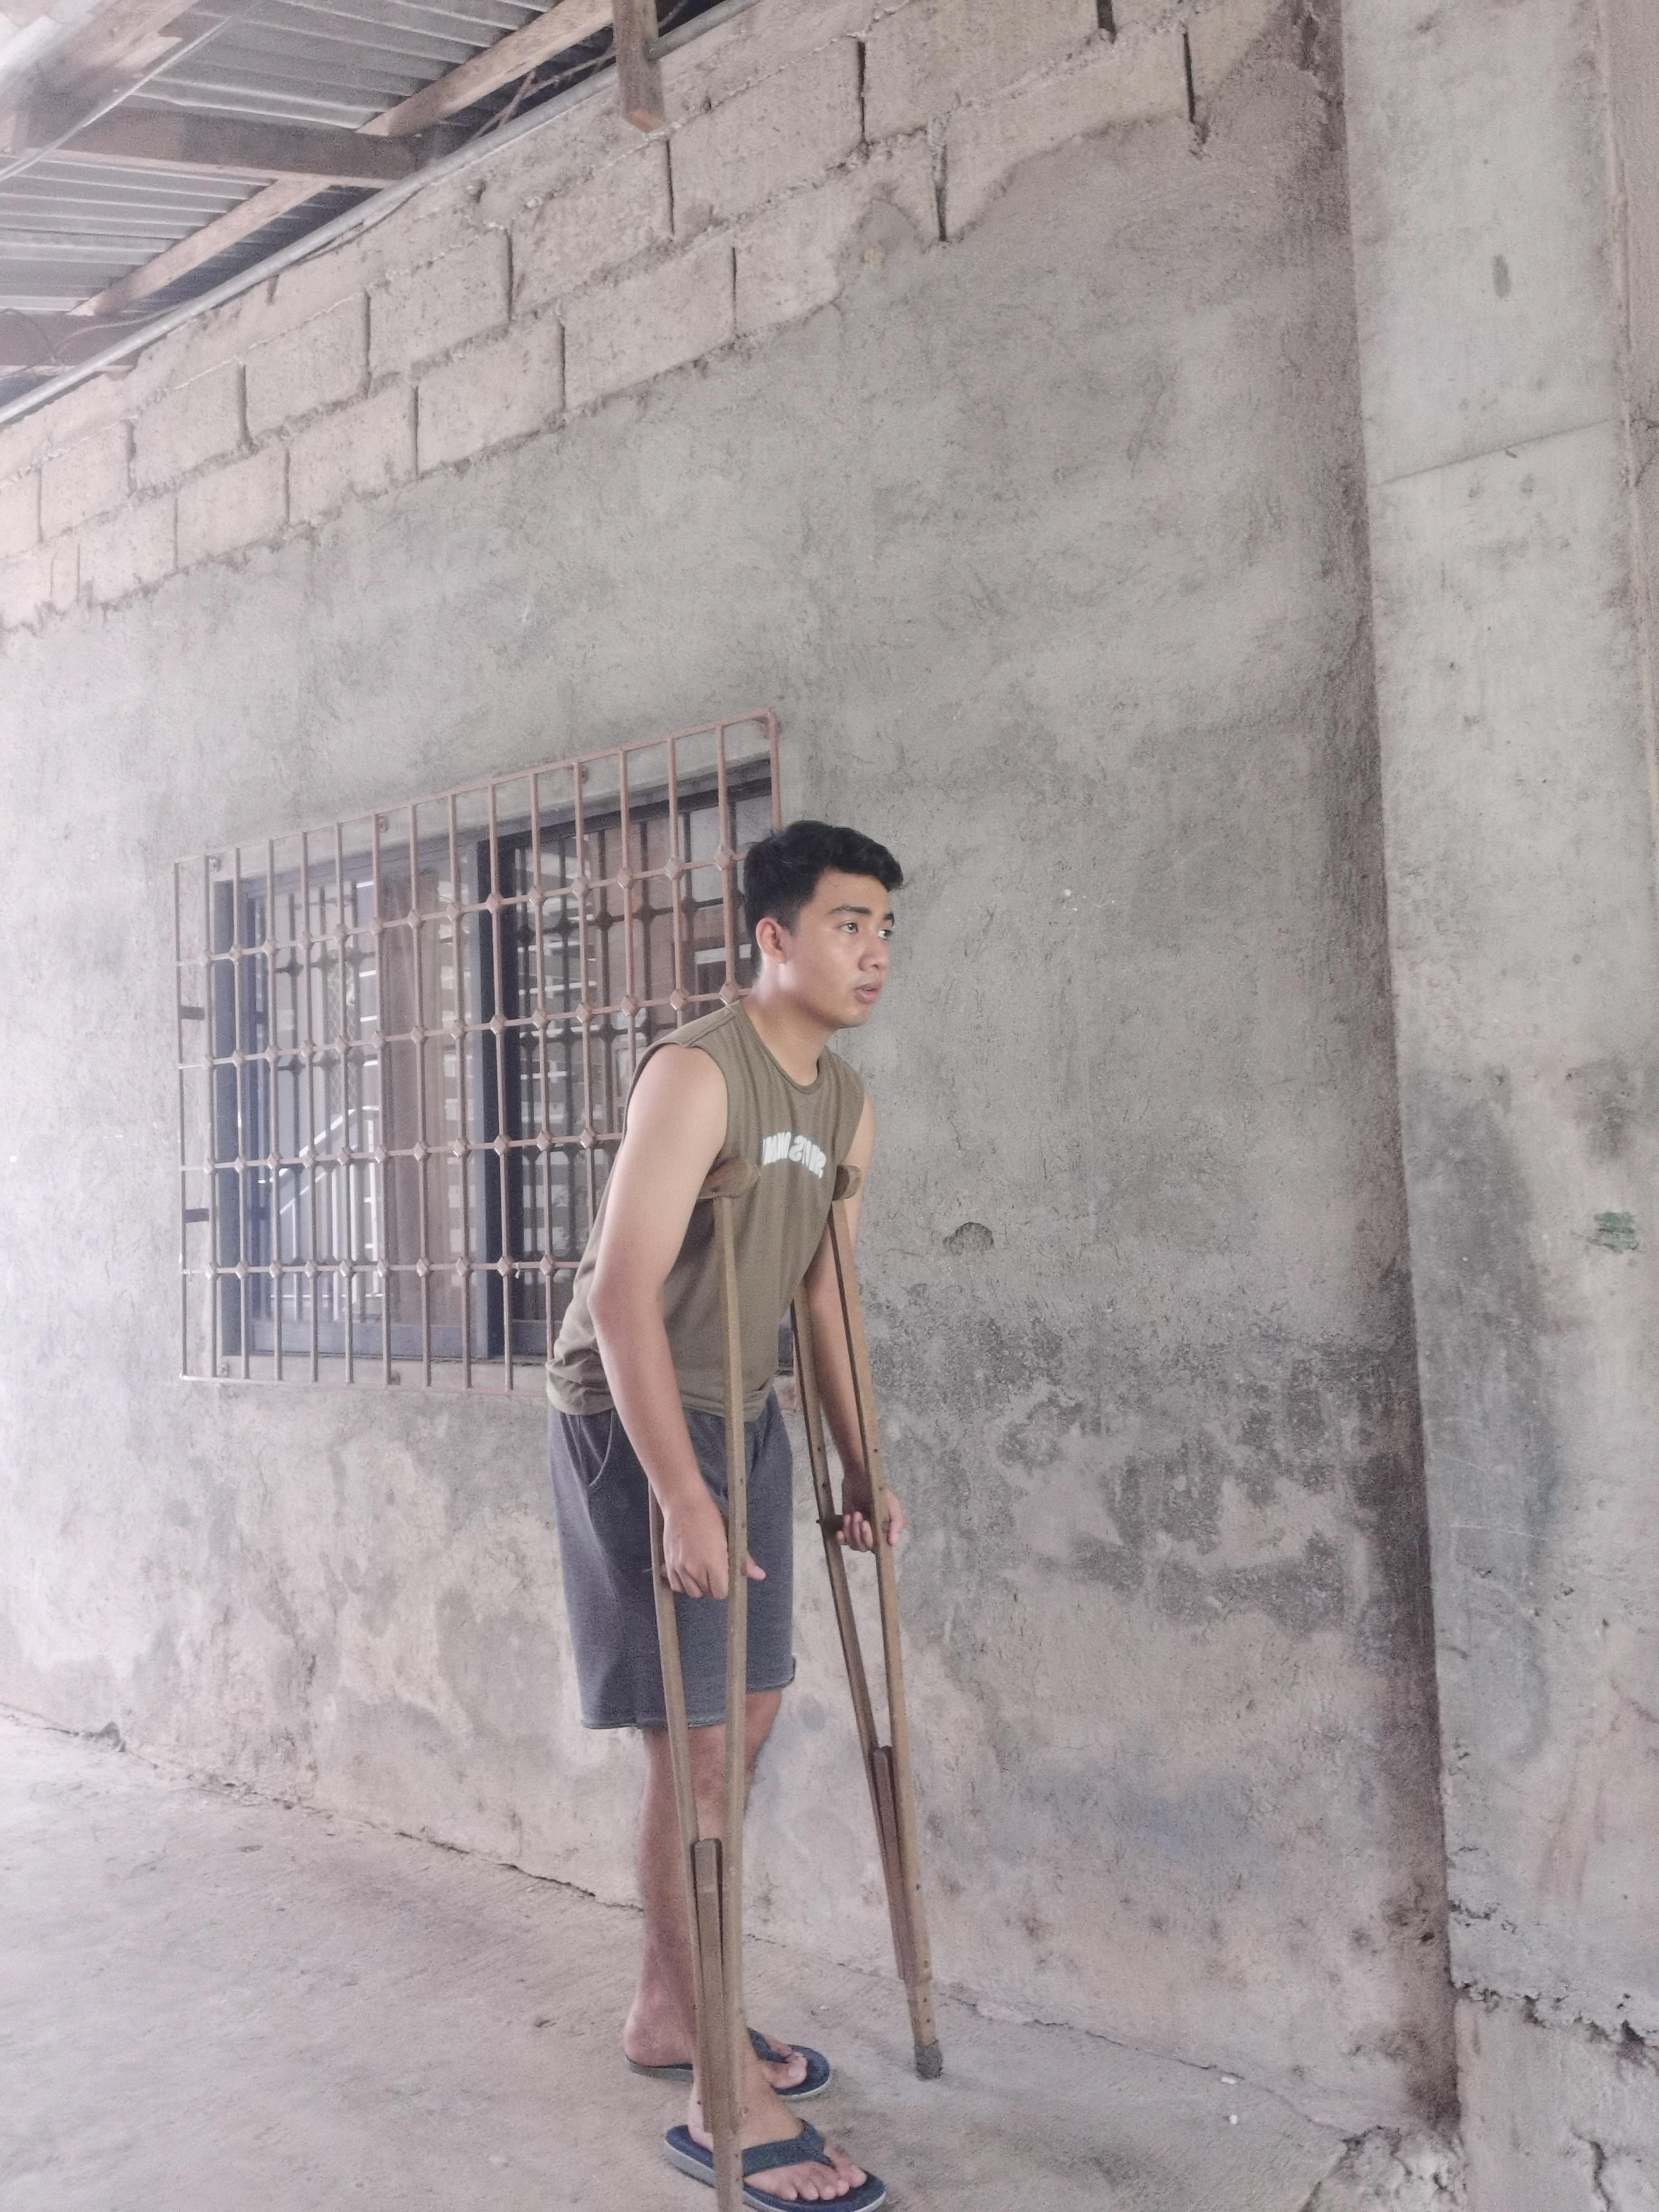crutches: (533, 798, 960, 2212)
